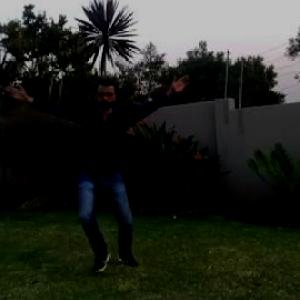takeoff: (1, 70, 188, 259)
